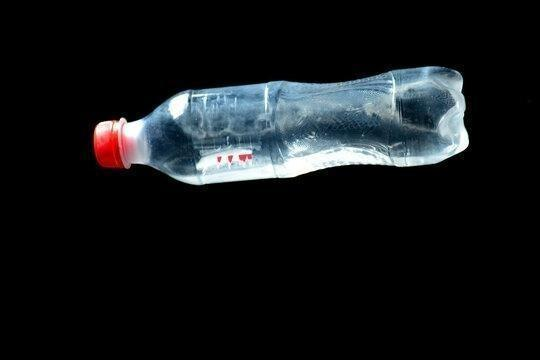bottle-plastic: (90, 63, 470, 186)
